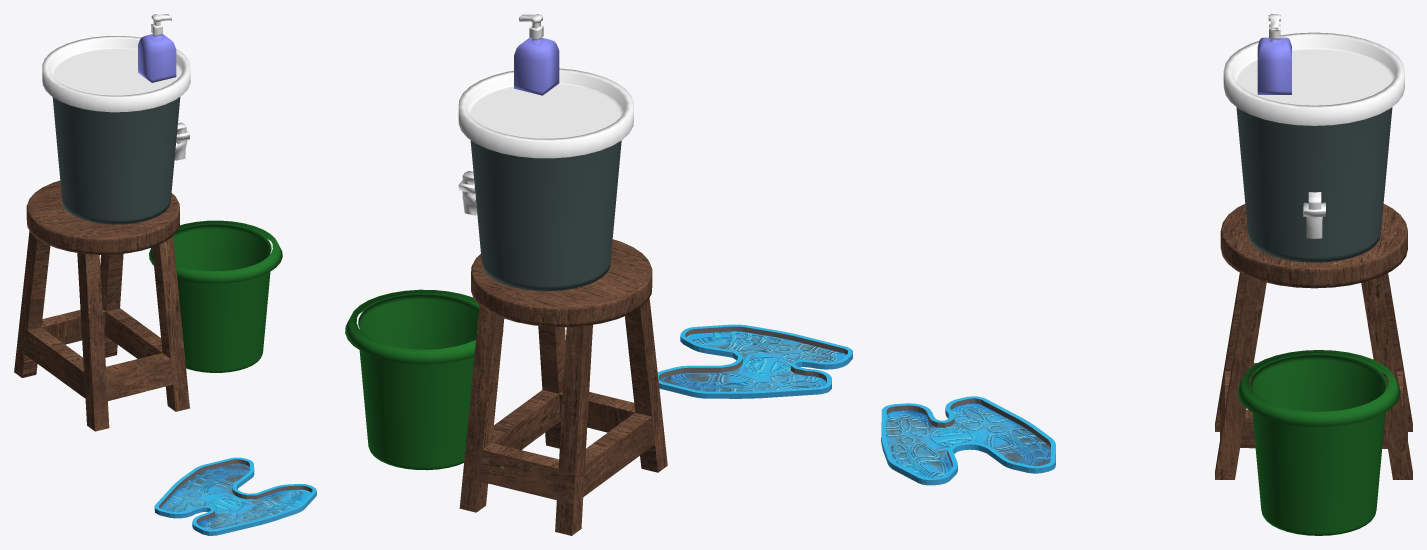
The model's file is BioSeguridad.glb.
3 views of the same model, side by side, from view 1: azimuth 30°, elevation 25°; view 2: azimuth 150°, elevation 25°; view 3: azimuth 270°, elevation 25° (orthographic). The views are drawn at different scales.
Parts seen in each view (by area): view 1: Grifo, Plane.001, Balde, zapato, Circle, Plane.002, Grifo.001; view 2: Grifo, Plane.001, Balde, zapato, Circle, Plane.002, Grifo.001; view 3: Grifo, Balde, Plane.001, zapato, Circle, Plane.002, Grifo.001.
Boxes of the visible parts, left/top/right/bottom form: Grifo: left=42, top=36, right=190, bottom=224; Plane.001: left=14, top=231, right=189, bottom=431; Balde: left=149, top=220, right=282, bottom=372; zapato: left=154, top=457, right=316, bottom=535; Circle: left=26, top=180, right=179, bottom=254; Plane.002: left=138, top=14, right=176, bottom=82; Grifo.001: left=174, top=122, right=189, bottom=160; Grifo: left=458, top=68, right=633, bottom=291; Plane.001: left=459, top=298, right=667, bottom=535; Balde: left=345, top=289, right=503, bottom=470; zapato: left=657, top=324, right=852, bottom=398; Circle: left=471, top=239, right=652, bottom=327; Plane.002: left=514, top=14, right=559, bottom=95; Grifo.001: left=458, top=171, right=477, bottom=215; Grifo: left=1223, top=32, right=1404, bottom=262; Balde: left=1237, top=350, right=1400, bottom=535; Plane.001: left=1215, top=272, right=1412, bottom=479; zapato: left=881, top=396, right=1055, bottom=485; Circle: left=1220, top=204, right=1407, bottom=288; Plane.002: left=1257, top=14, right=1291, bottom=94; Grifo.001: left=1303, top=192, right=1325, bottom=238.
Bounding box in the file's own units: 2.75 × 3.81 × 4.
6 materials, 2 textured.
